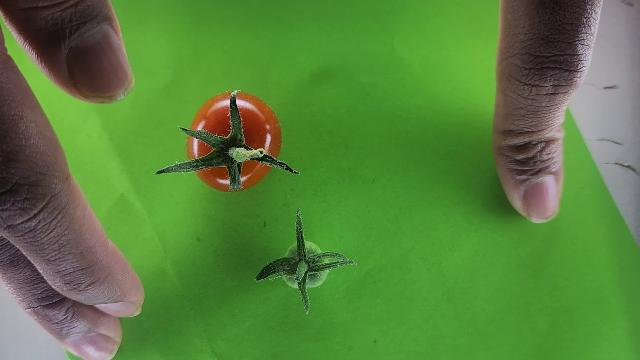Fruit Maturation: (282, 242, 329, 288)
Fully Grown: (187, 90, 283, 192)
